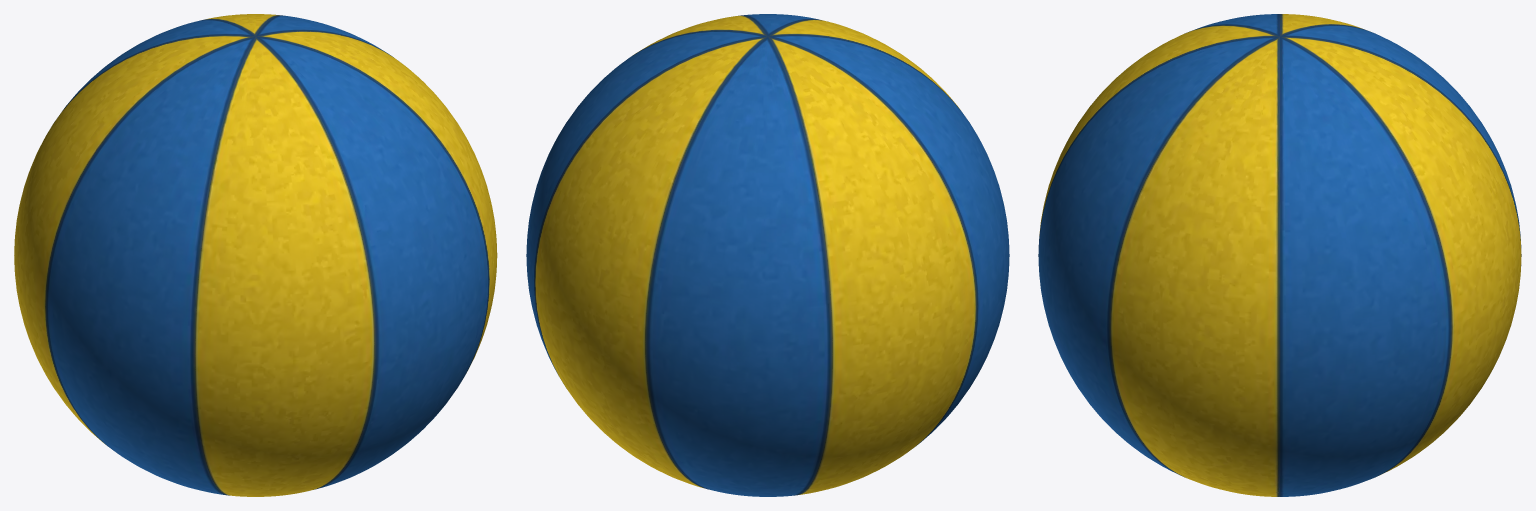
The model's file is ball-water-polo.glb.
3 renders of one model, left to right at view 1: azimuth 30°, elevation 25°; view 2: azimuth 150°, elevation 25°; view 3: azimuth 270°, elevation 25°, orthographic.
Parts seen in each view (by area): view 1: Ball; view 2: Ball; view 3: Ball.
Boxes of the visible parts, left/top/right/bottom form: Ball: left=14, top=14, right=497, bottom=496; Ball: left=526, top=14, right=1009, bottom=496; Ball: left=1038, top=14, right=1521, bottom=496.
Size of the model in its own units: 0.2202 by 0.22 by 0.22.
Materials: 2 (2 with a texture image).
